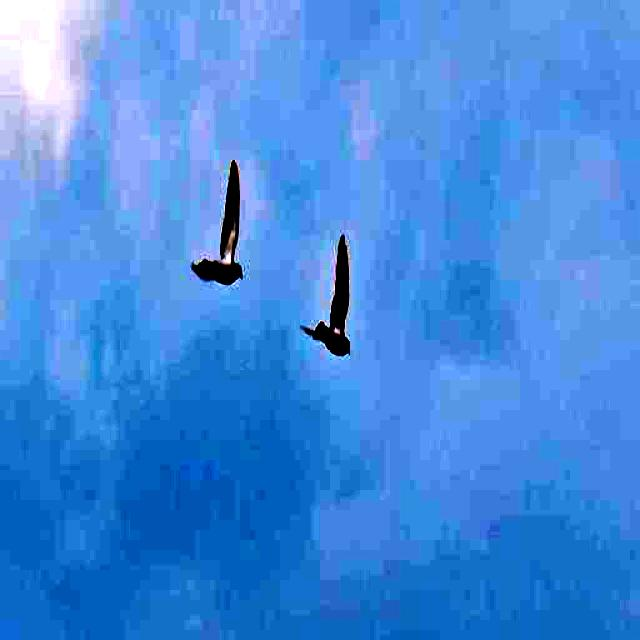airplane: (186, 152, 255, 309), (300, 224, 368, 382)
